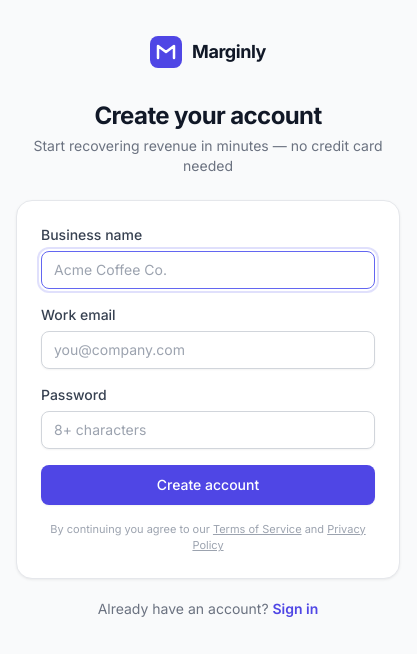
Test case: SignupPage › shows email validation error for invalid email
Type "My Business" into the field with placeholder "Acme Coffee Co." at {"x": 208, "y": 270}, box [41,250,375,288]
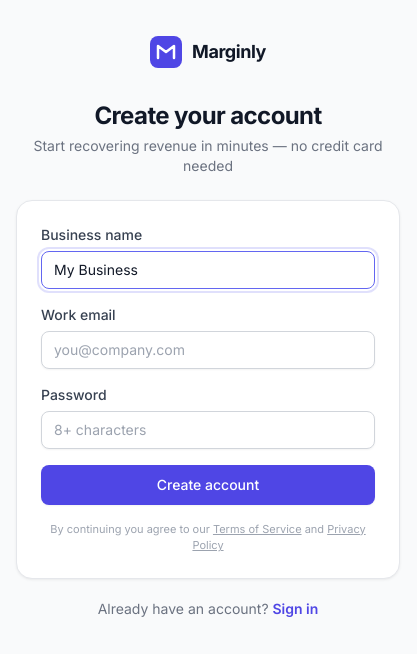
Type "notanemail" into the field with placeholder "you@company.com" at {"x": 208, "y": 350}, box [41,330,375,368]
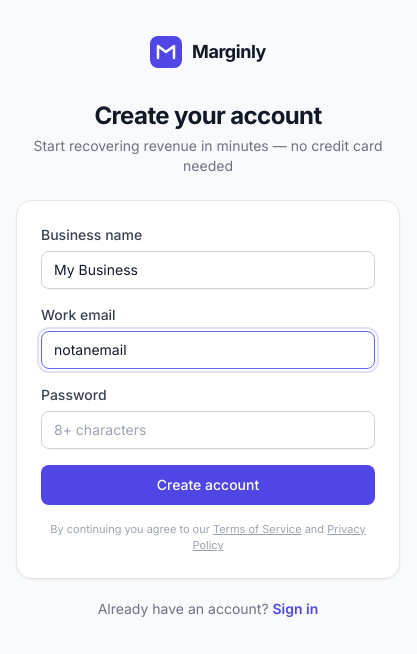
Click the button "Create account" at {"x": 208, "y": 484}, box [41,464,375,504]
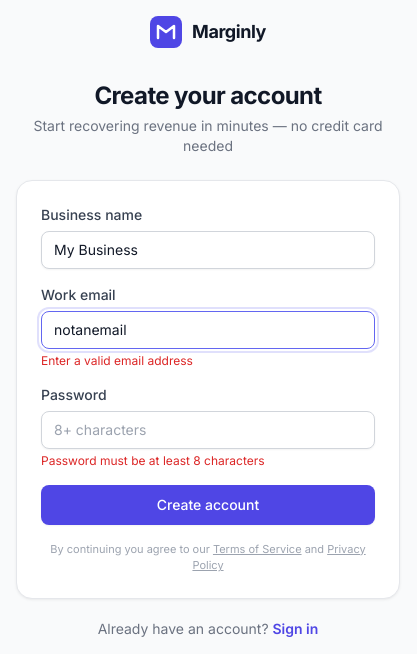
Expected: the text "Enter a valid email address" is shown, [41,352,193,368]
